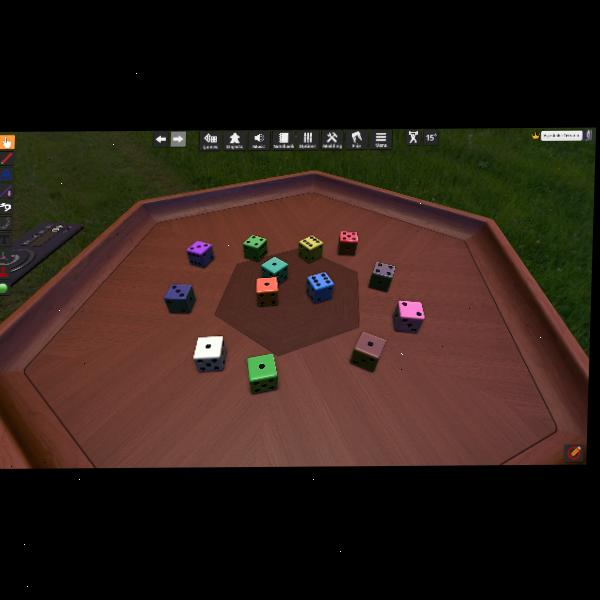d6: (349, 332, 384, 373), (247, 354, 279, 394), (193, 335, 226, 371), (393, 300, 424, 332), (164, 282, 196, 313), (305, 270, 333, 303), (260, 256, 288, 286), (186, 239, 213, 268), (367, 262, 393, 292), (255, 277, 279, 307), (242, 234, 267, 262), (299, 236, 322, 264), (338, 231, 358, 255)
